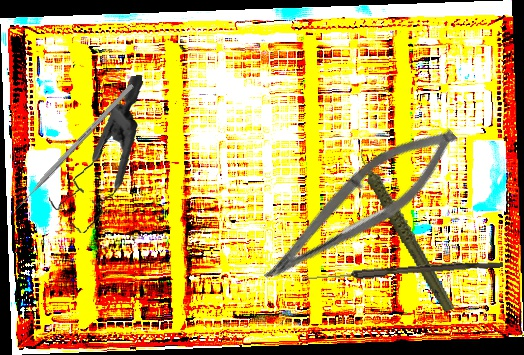Handpiece: (356, 136, 457, 323)
Micro Scissor: (252, 106, 470, 308)
Pusher: (6, 82, 135, 220)
Speculum: (37, 74, 158, 237)
Surgical Spoon: (301, 257, 504, 285)
